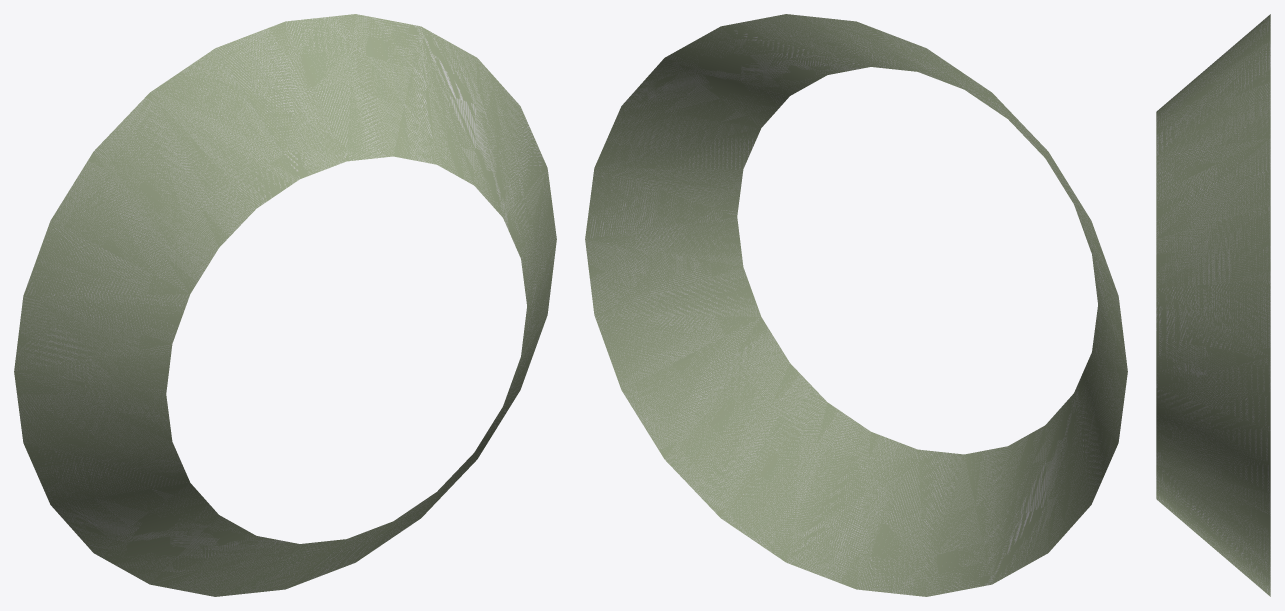
The model's file is original-147.obj.
The picture shows the model from 3 angles, left to right: view 1: azimuth 30°, elevation 25°; view 2: azimuth 150°, elevation 25°; view 3: azimuth 270°, elevation 25°; orthographic projection. The views are drawn at different scales.
Visible parts, largest first — view 1: mesh28/mesh28-geometry/material_2#mesh28-geometry; view 2: mesh28/mesh28-geometry/material_2#mesh28-geometry; view 3: mesh28/mesh28-geometry/material_2#mesh28-geometry.
Part boxes in pixels (<box>): mesh28/mesh28-geometry/material_2#mesh28-geometry: <box>14,14,556,596</box>; mesh28/mesh28-geometry/material_2#mesh28-geometry: <box>585,14,1127,596</box>; mesh28/mesh28-geometry/material_2#mesh28-geometry: <box>1156,14,1270,596</box>.
Bounding box in the file's own units: 0.0875 × 0.0875 × 0.0171.
